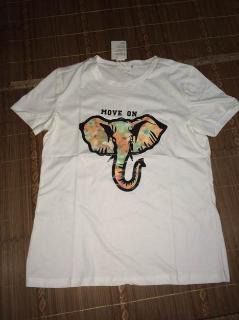short sleeve top: (10, 54, 239, 288)
